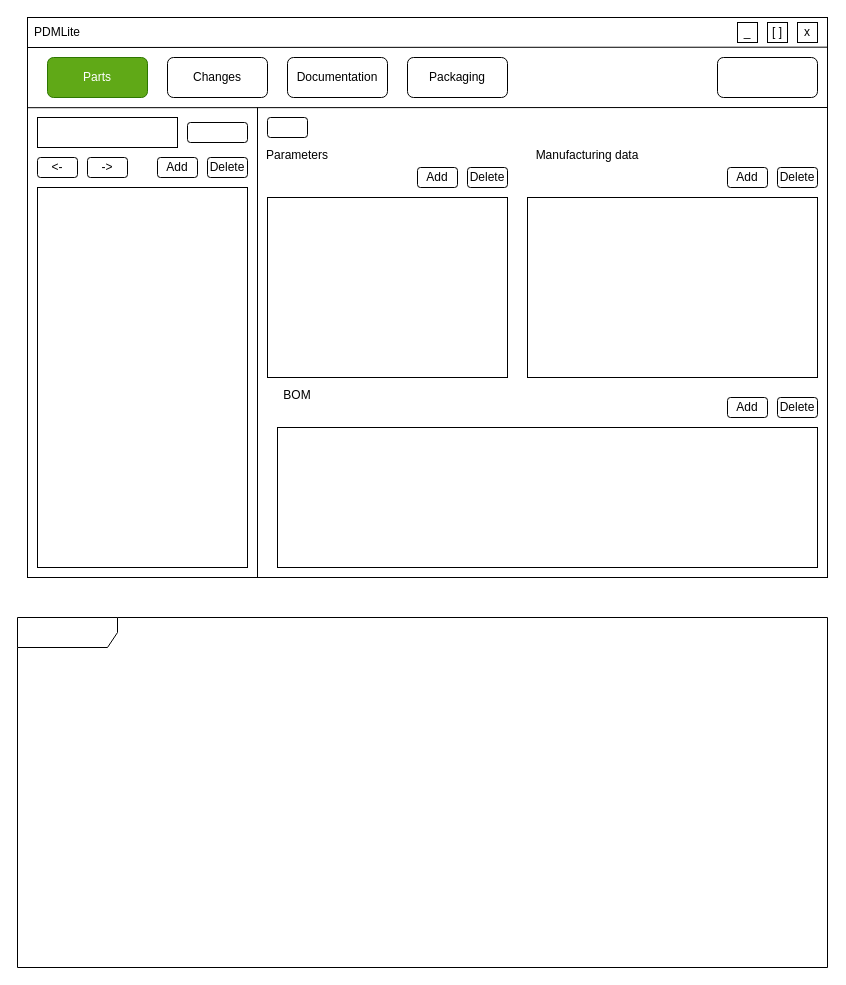
Some shapes in this 846 by 985 pixel diagram are drawn without their labels. The centre of each missing label's shape, as x and y in pixels:
"Save" belongs at [287,127].
"Search" belongs at [217,132].
"Select part" belongs at [422,792].
"Settings" belongs at [767,77].
